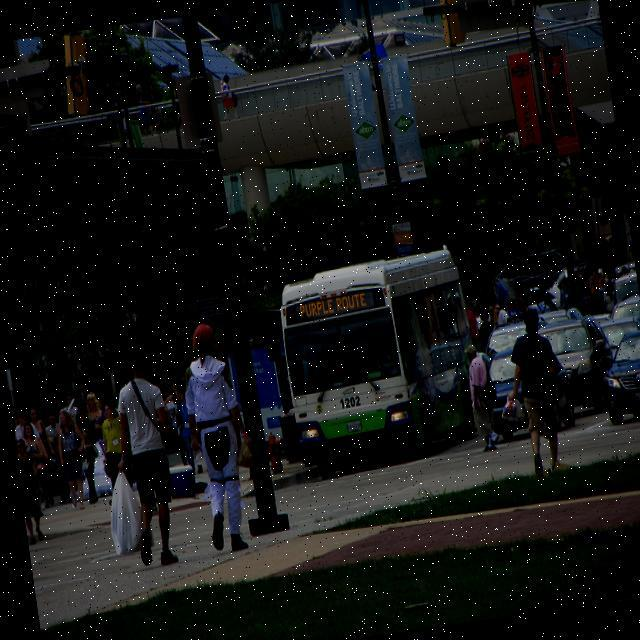fire_hydrant: (264, 429, 289, 473)
